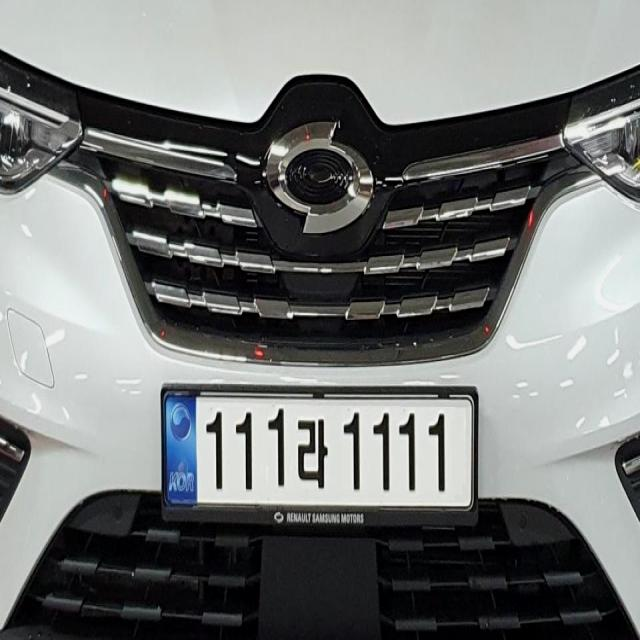illegal_plate: (158, 378, 480, 538)
